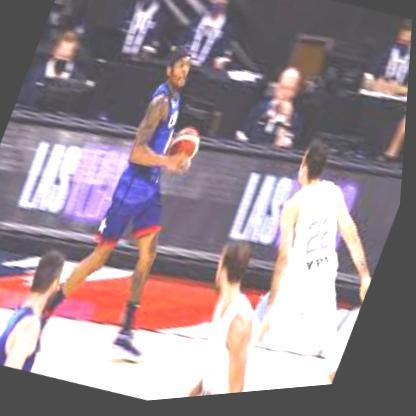basketball: (166, 128, 207, 175)
